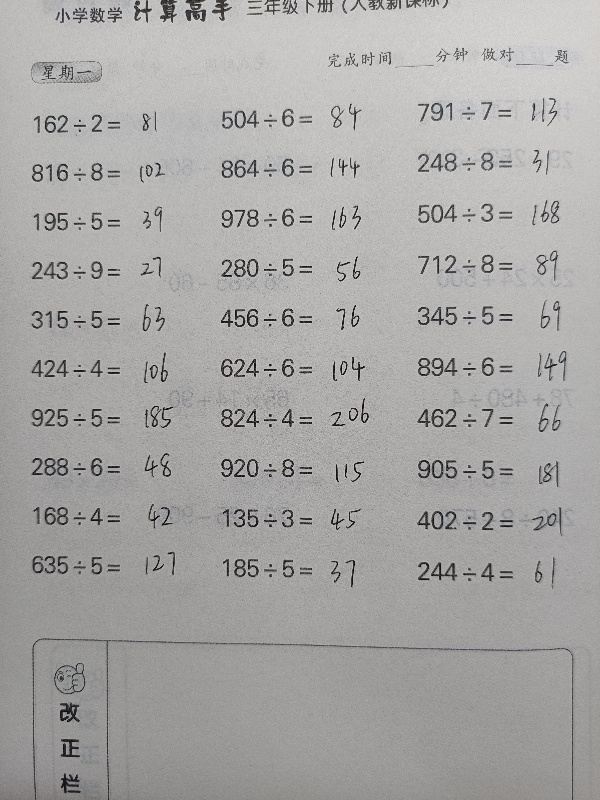equation: (408, 554, 588, 589), (409, 503, 589, 538), (409, 452, 589, 487), (410, 298, 590, 333), (213, 251, 393, 286), (409, 246, 589, 281), (410, 145, 590, 180), (409, 93, 589, 128), (214, 551, 394, 585), (22, 548, 202, 582), (213, 501, 393, 535), (25, 499, 205, 533), (212, 451, 392, 485), (24, 450, 204, 484), (409, 401, 589, 435), (212, 401, 392, 435), (23, 401, 203, 435), (212, 351, 392, 385), (409, 350, 589, 384), (24, 303, 204, 337), (212, 301, 392, 335), (24, 254, 204, 288), (25, 205, 205, 239), (212, 201, 392, 235), (409, 196, 589, 230), (22, 155, 202, 189), (212, 151, 392, 185), (25, 107, 205, 141), (213, 101, 393, 135), (23, 352, 203, 385)
